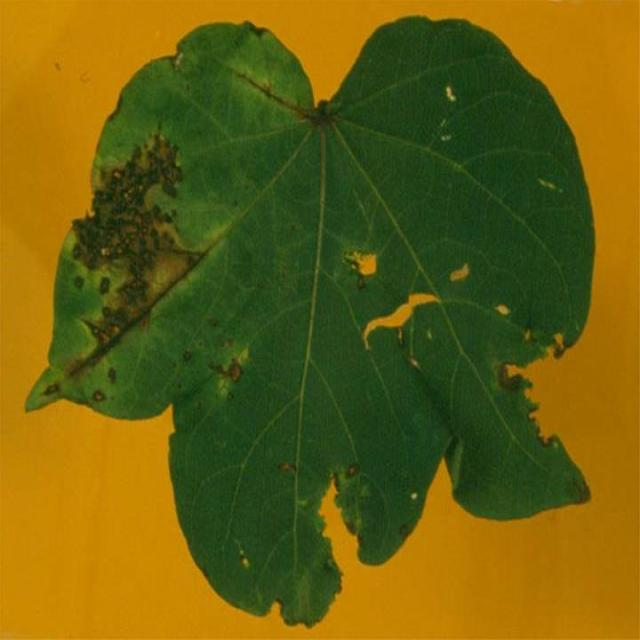Bacterial Blight: (92, 143, 198, 350)
